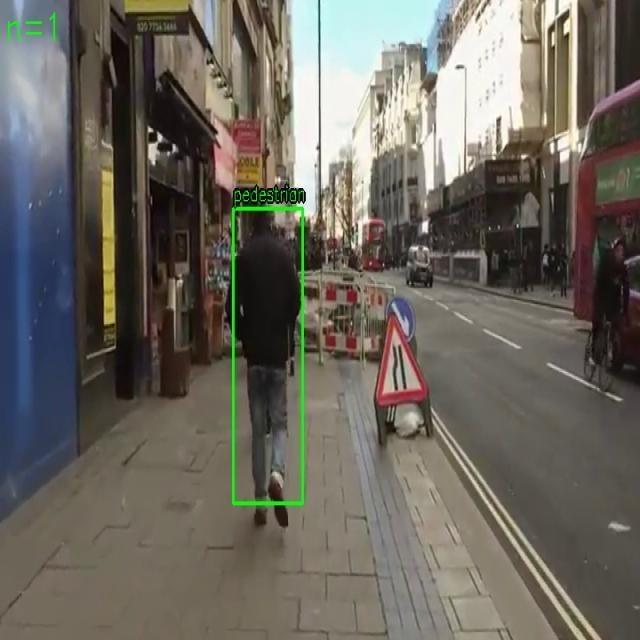person: (233, 208, 303, 504)
